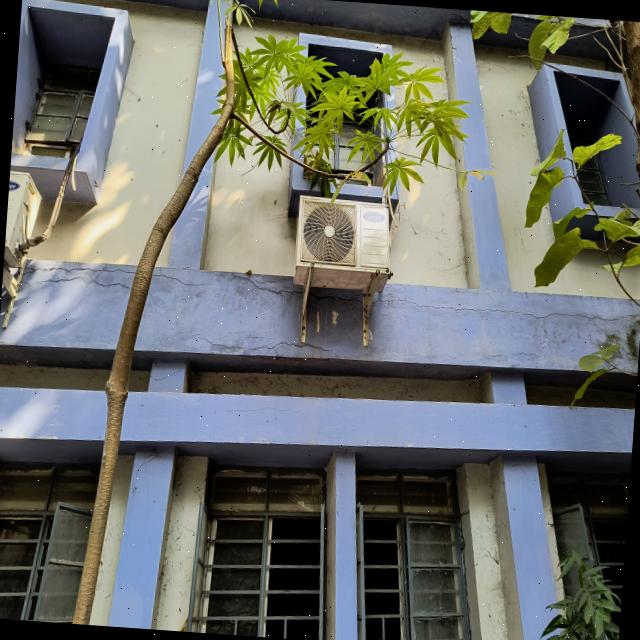Crack: (375, 297, 636, 324), (185, 332, 334, 354), (229, 273, 302, 296), (29, 274, 131, 289), (21, 265, 137, 278), (307, 290, 363, 307), (152, 272, 211, 287)
